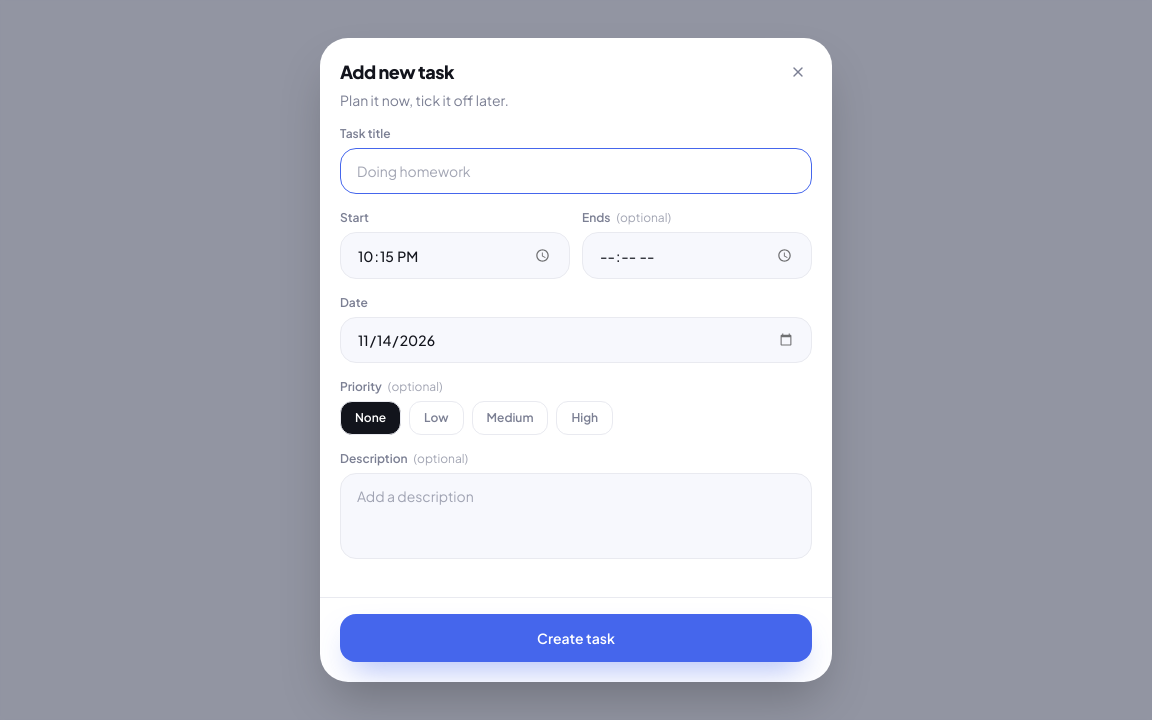
Test: TaskFormSheet › rejects an end time that is not after the start time
Type "Finish the report" into the field labelled "Task title". click: (576, 171)
box: x1=340 y1=148 x2=812 y2=194
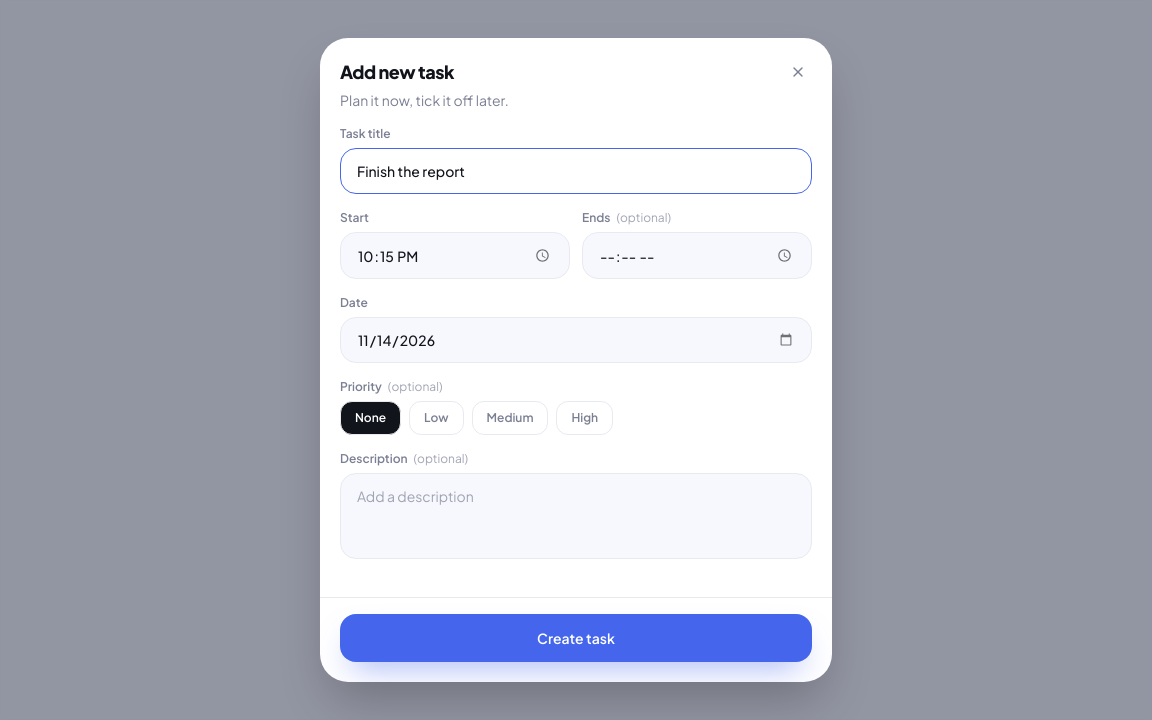
Replace the text in the time field labelled "Start" with "10:00". click: (455, 256)
box: x1=340 y1=232 x2=570 y2=279
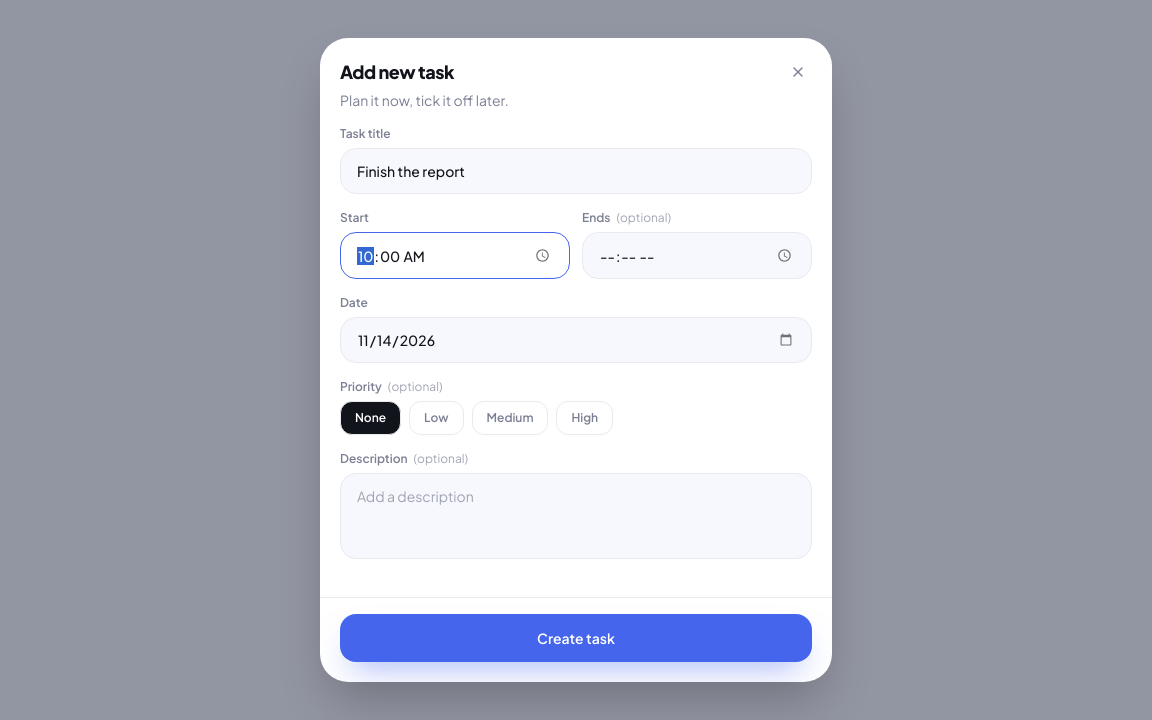
Type "09:00" into the time field labelled "Ends (optional)". click: (697, 256)
box: x1=582 y1=232 x2=812 y2=279
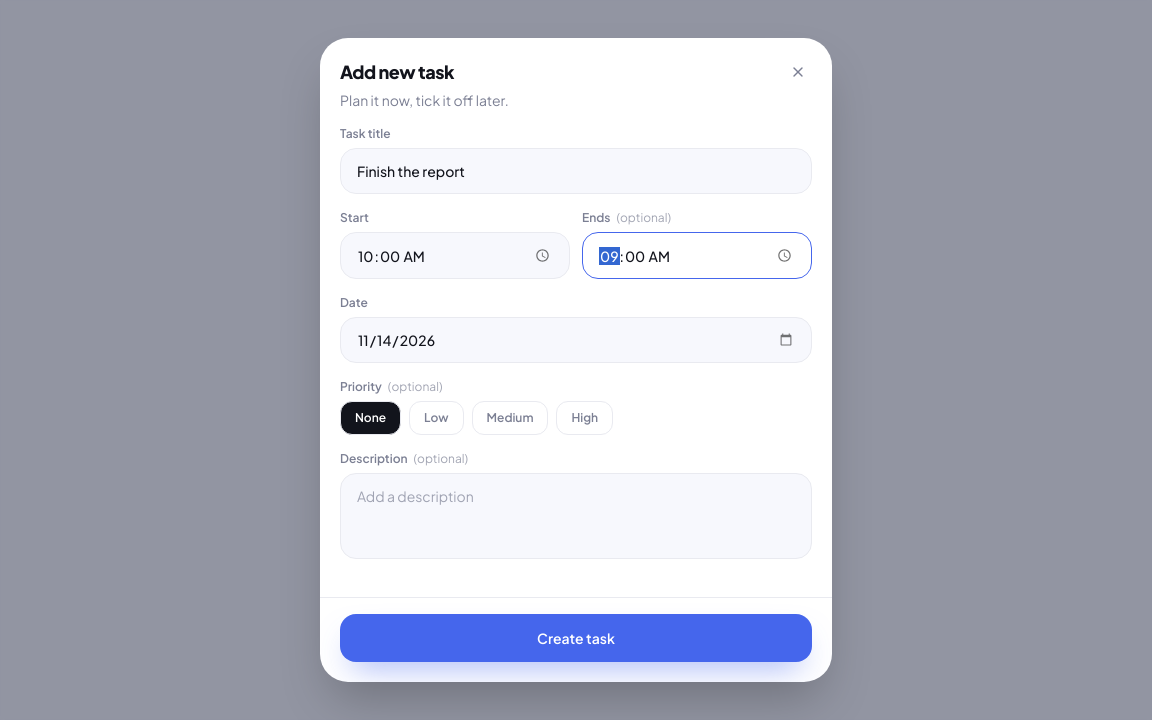
Click the button "Create task". click: (576, 638)
box: x1=340 y1=614 x2=812 y2=662
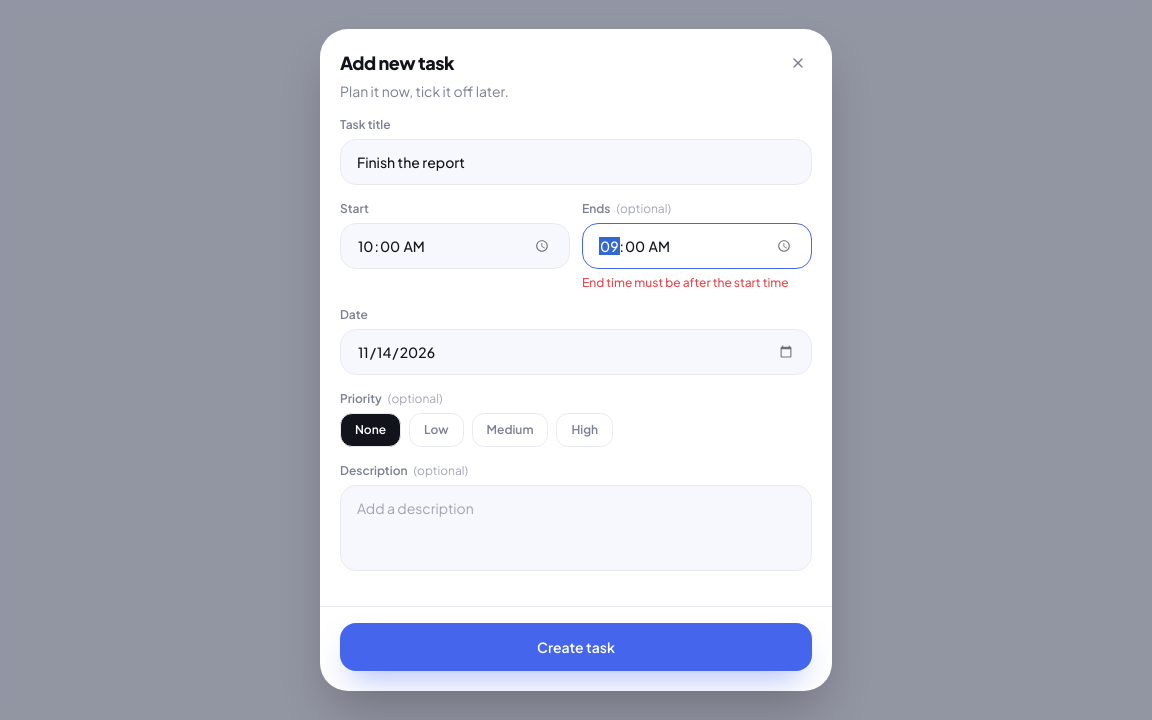
Expected: the text "End time must be after the start time" is shown, x1=582 y1=276 x2=812 y2=292
